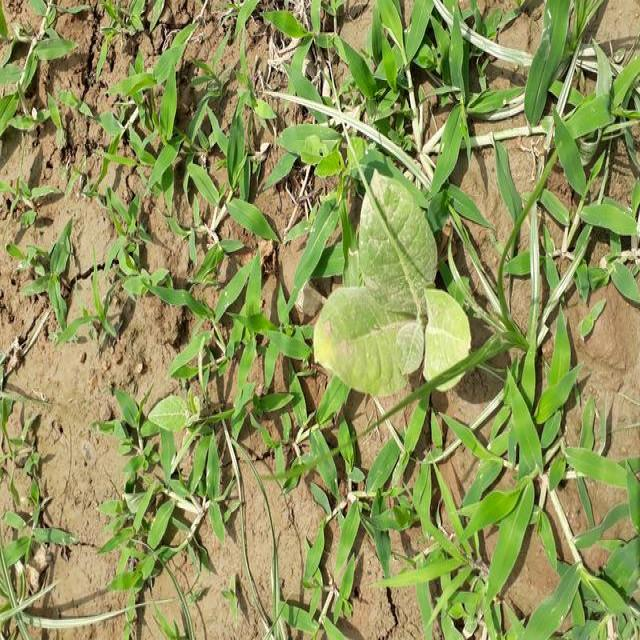crop: (314, 165, 480, 397)
